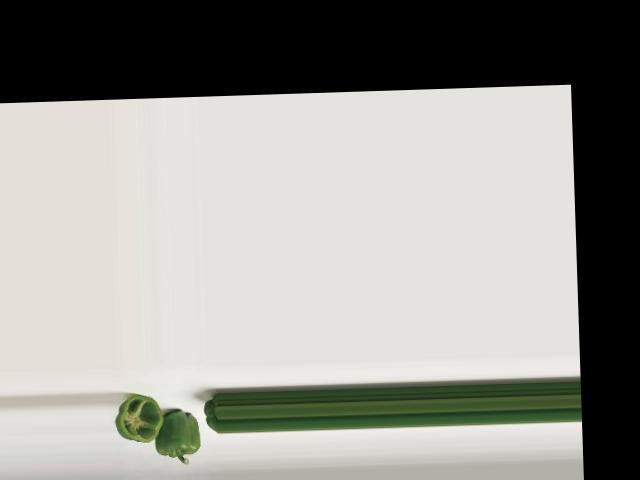bell_pepper: (112, 390, 166, 448)
